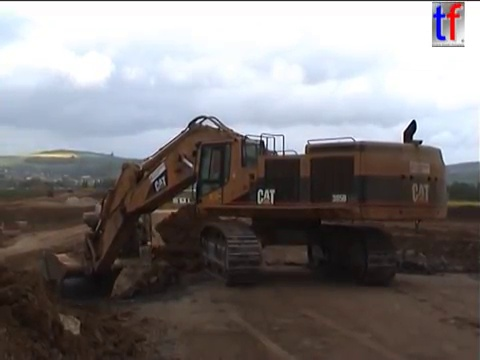excavator: (39, 112, 452, 291)
truck: (133, 201, 283, 281), (78, 188, 155, 252), (45, 187, 56, 199), (64, 185, 74, 195)
worker: (411, 203, 425, 234)
